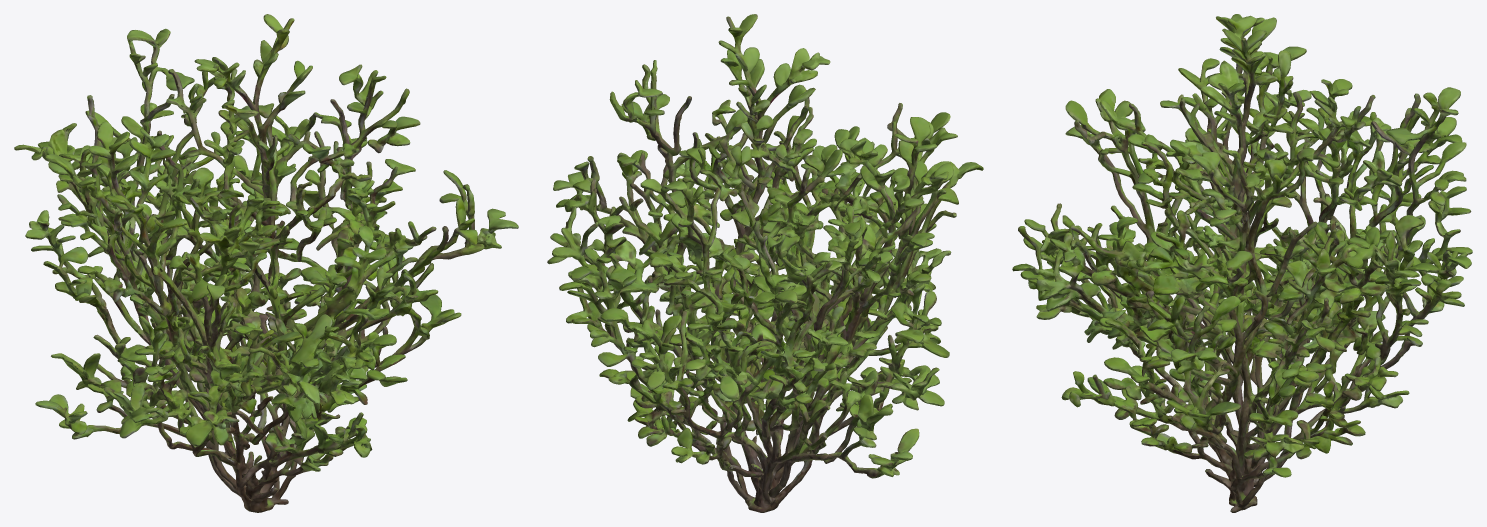
The model's file is bilberry-clump-v13.glb.
The picture shows the model from 3 angles, left to right: view 1: azimuth 30°, elevation 25°; view 2: azimuth 150°, elevation 25°; view 3: azimuth 270°, elevation 25°; orthographic projection.
Parts seen in each view (by area): view 1: geometry_0; view 2: geometry_0; view 3: geometry_0.
Boxes of the visible parts, bbox=[...] form: geometry_0: bbox=[14, 14, 518, 512]; geometry_0: bbox=[547, 14, 983, 512]; geometry_0: bbox=[1012, 14, 1472, 512].
Bounding box in the file's own units: 1.11 × 1.2 × 1.04.
1 material, 1 textured.
